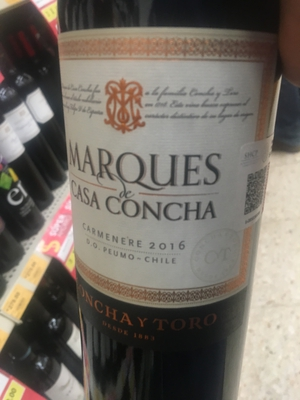marques de casa concha carmenere: (58, 4, 286, 400)
